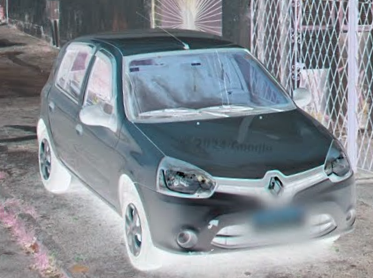car: (35, 28, 356, 271)
